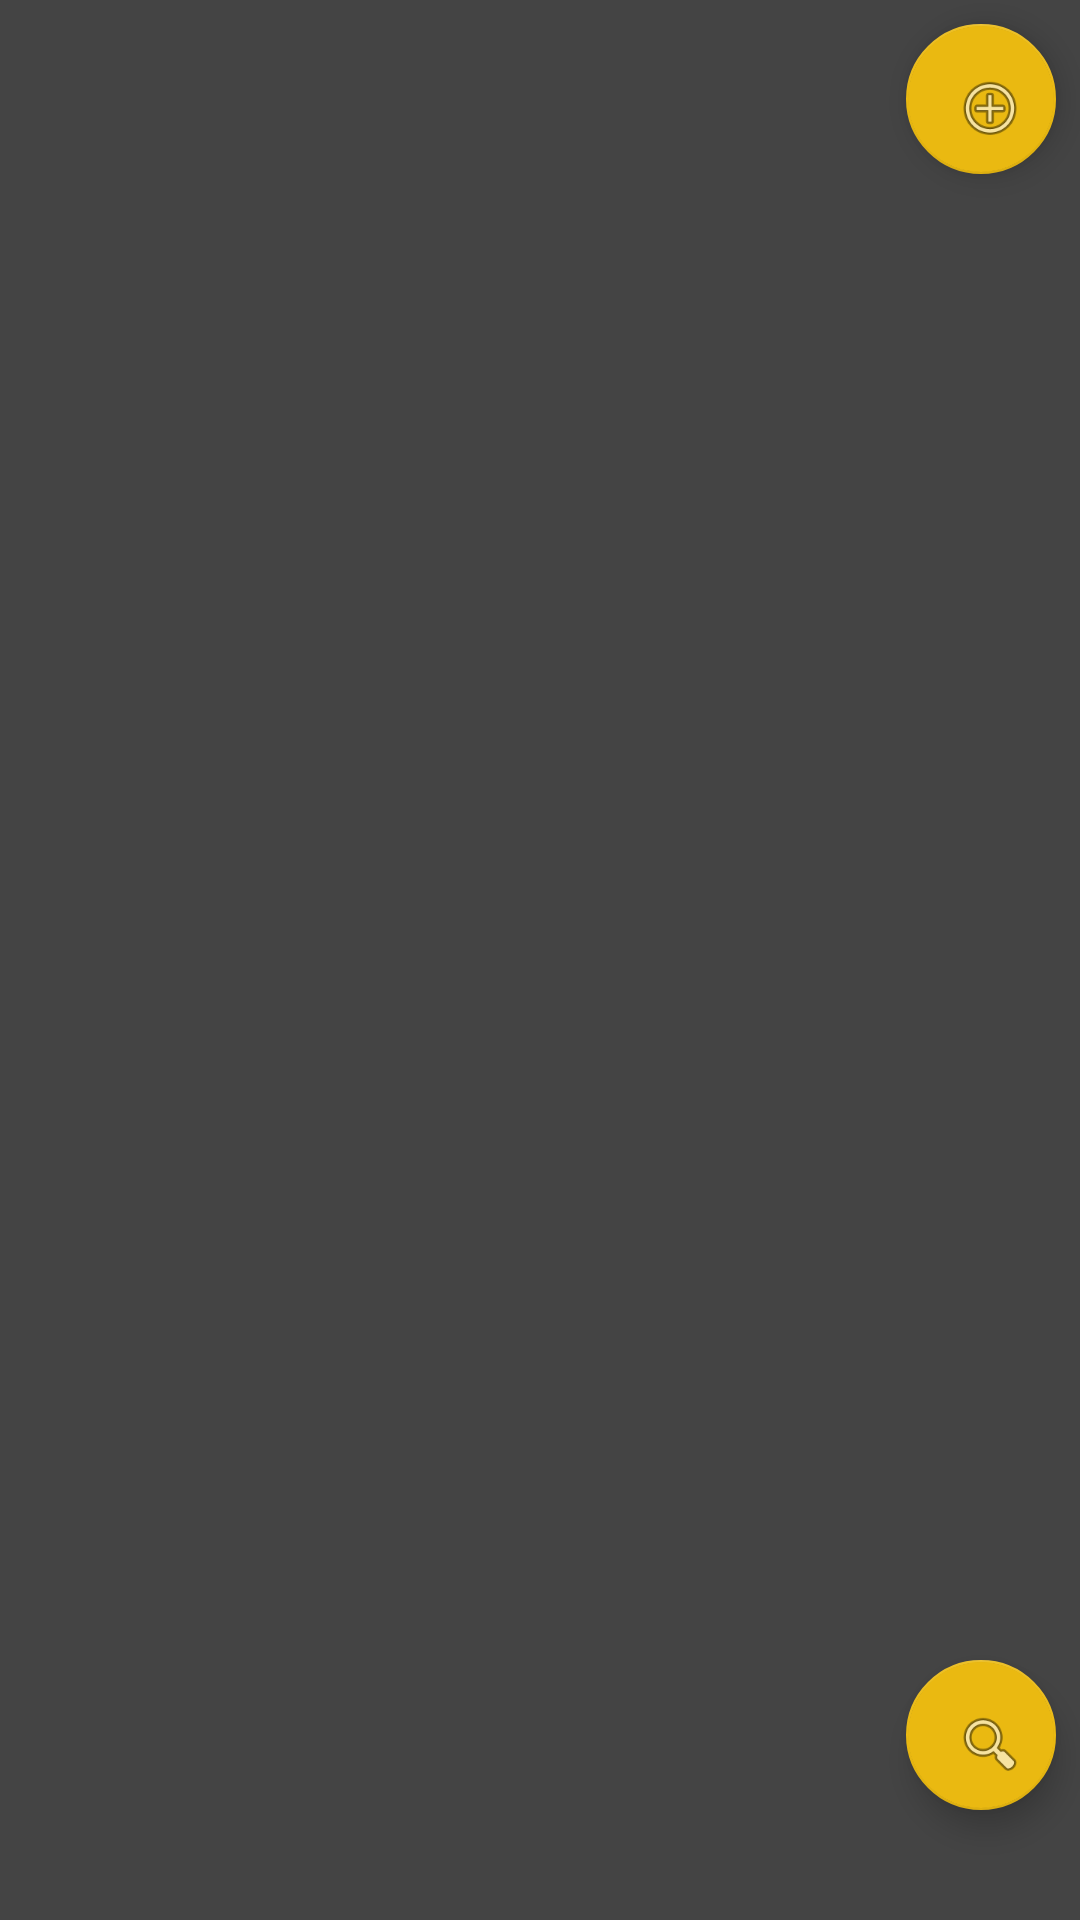

Screen size 1080w x 1920h. Icon name, then its center in pixels as (x,y):
add: (981,99)
search: (981,1735)
